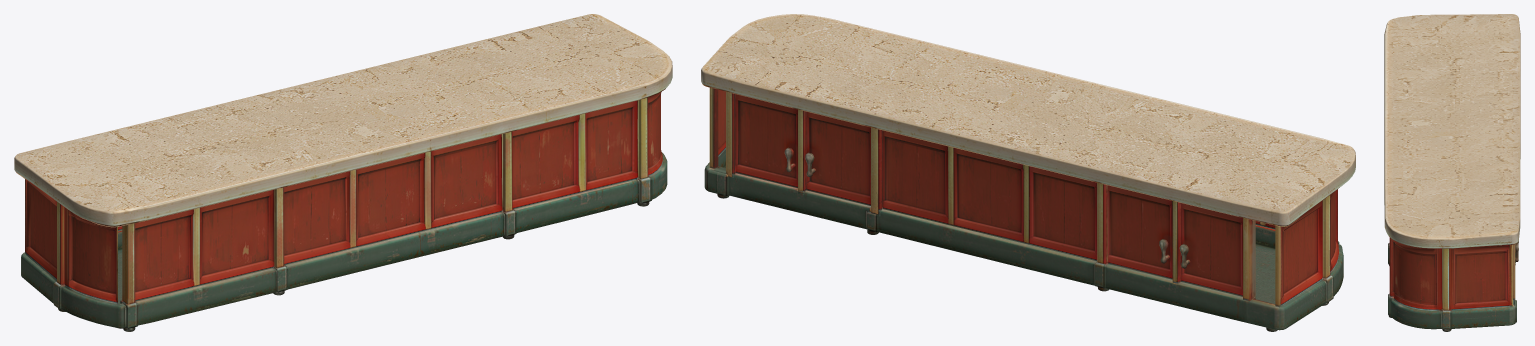
File: P13_curved_service_counter_Runtime_1k.glb
3 renders of one model, left to right at view 1: azimuth 30°, elevation 25°; view 2: azimuth 150°, elevation 25°; view 3: azimuth 270°, elevation 25°, orthographic. The views are drawn at different scales.
Parts seen in each view (by area): view 1: ce616837_8f5d_48c3_9361_bc9d611e2346; view 2: ce616837_8f5d_48c3_9361_bc9d611e2346; view 3: ce616837_8f5d_48c3_9361_bc9d611e2346.
Boxes of the visible parts, x1=… form: ce616837_8f5d_48c3_9361_bc9d611e2346: x1=14, y1=14, x2=672, y2=331; ce616837_8f5d_48c3_9361_bc9d611e2346: x1=701, y1=14, x2=1355, y2=331; ce616837_8f5d_48c3_9361_bc9d611e2346: x1=1384, y1=14, x2=1520, y2=331.
Size of the model in its own units: 5.18 by 1.03 by 1.33.
Materials: 1 (1 with a texture image).
